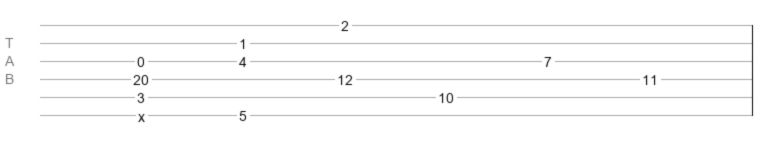0: (137, 54, 145, 64)
1: (239, 36, 247, 46)
10: (438, 90, 454, 100)
11: (642, 72, 658, 82)
12: (337, 72, 353, 82)
2: (341, 18, 349, 28)
20: (133, 72, 149, 82)
3: (137, 90, 145, 100)
4: (239, 54, 247, 64)
5: (239, 108, 247, 118)
7: (544, 54, 552, 64)
x: (138, 109, 145, 117)
